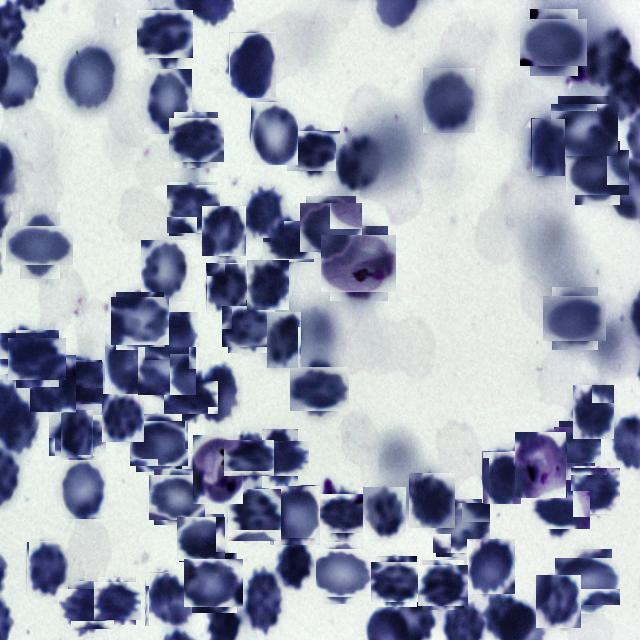red blood cell: (62, 45, 116, 112), (554, 100, 614, 160), (423, 68, 475, 133), (525, 14, 583, 72), (560, 554, 616, 610), (303, 199, 359, 255), (144, 69, 192, 134), (229, 32, 276, 98), (250, 101, 298, 165), (269, 485, 320, 545), (105, 334, 156, 394), (142, 240, 192, 301), (312, 546, 368, 600), (570, 146, 625, 200), (434, 501, 488, 555), (548, 292, 602, 346), (186, 556, 240, 610), (114, 294, 168, 348), (140, 344, 194, 398), (58, 459, 106, 519), (13, 219, 67, 272), (336, 136, 385, 193), (228, 489, 280, 542), (139, 8, 191, 61), (150, 312, 198, 369), (133, 417, 185, 469), (294, 362, 346, 414), (30, 356, 76, 414), (467, 539, 515, 594), (243, 570, 285, 632), (168, 183, 219, 234), (145, 572, 192, 626), (409, 473, 455, 528), (171, 115, 221, 165), (53, 410, 103, 460), (152, 472, 202, 522), (12, 334, 62, 384), (535, 486, 585, 535), (536, 576, 581, 630), (26, 541, 68, 597), (572, 384, 614, 439), (571, 468, 619, 516), (62, 585, 110, 633), (256, 434, 304, 482), (274, 538, 316, 592), (320, 490, 367, 538), (225, 302, 272, 350), (363, 487, 406, 539), (290, 127, 336, 175), (266, 218, 312, 266), (202, 206, 246, 256), (178, 516, 225, 562), (0, 329, 45, 377), (420, 562, 466, 608), (247, 260, 289, 310), (244, 186, 284, 238), (374, 558, 419, 604), (482, 451, 521, 504), (203, 364, 240, 419), (102, 394, 144, 442), (266, 311, 301, 368), (531, 118, 565, 176), (206, 263, 246, 312), (169, 375, 213, 419), (228, 436, 270, 481), (60, 361, 103, 404), (95, 580, 138, 622), (556, 424, 598, 466), (60, 409, 93, 458)
ring: (192, 434, 243, 504)
trophozoite: (326, 230, 392, 296), (516, 432, 568, 498)
